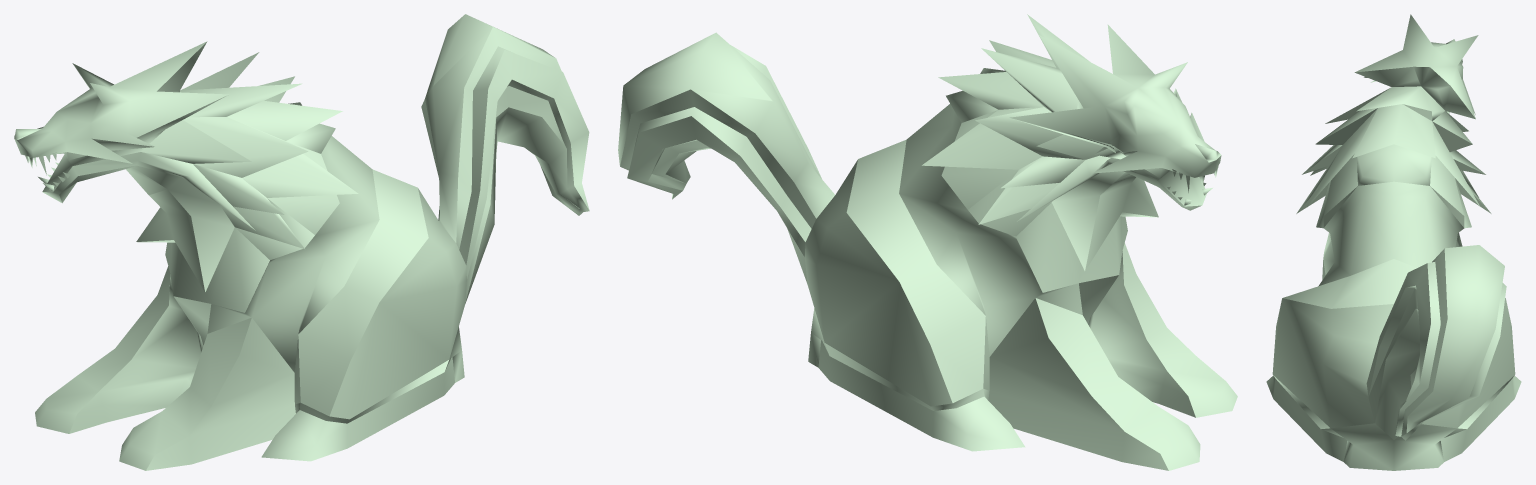
3 renders of one model, left to right at view 1: azimuth 30°, elevation 25°; view 2: azimuth 150°, elevation 25°; view 3: azimuth 270°, elevation 25°, orthographic. The views are drawn at different scales.
Parts seen in each view (by area): view 1: Object37; view 2: Object37; view 3: Object37.
Part boxes in pixels (bbox=[...]): Object37: bbox=[14, 14, 589, 470]; Object37: bbox=[618, 14, 1237, 470]; Object37: bbox=[1266, 14, 1521, 470].
Bounding box in the file's own units: 686 × 414 × 308.
